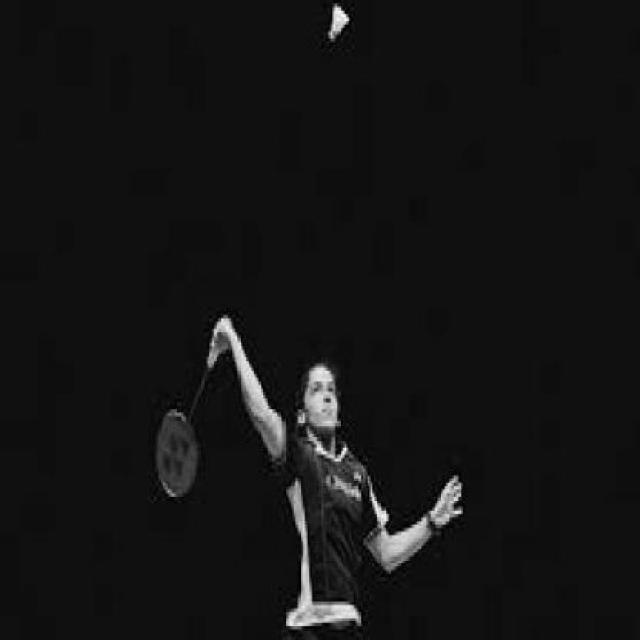Shuttlecock: (329, 3, 349, 45)
